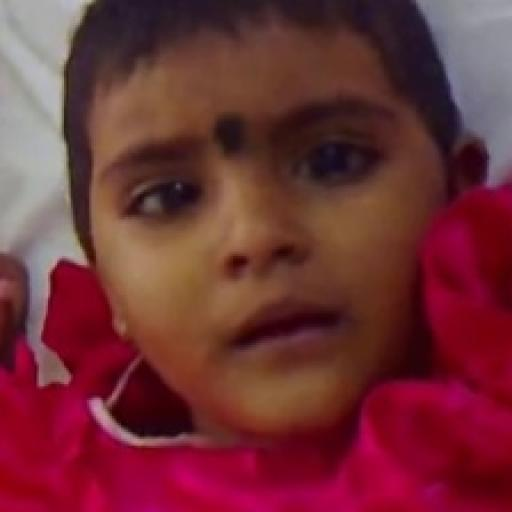Autism: (48, 23, 478, 446)
